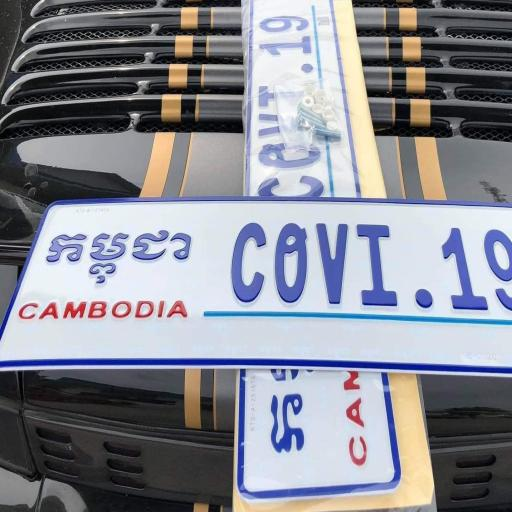Plate Number: (0, 204, 512, 373)
